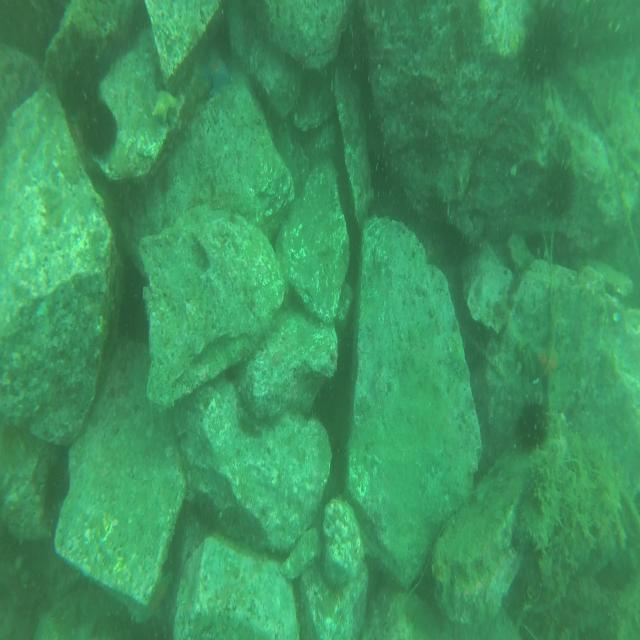echinus: (514, 12, 565, 88), (539, 148, 581, 227), (78, 86, 120, 160), (41, 452, 72, 529), (512, 395, 547, 458)
starfish: (529, 327, 567, 392), (137, 570, 173, 625), (198, 45, 235, 94)
